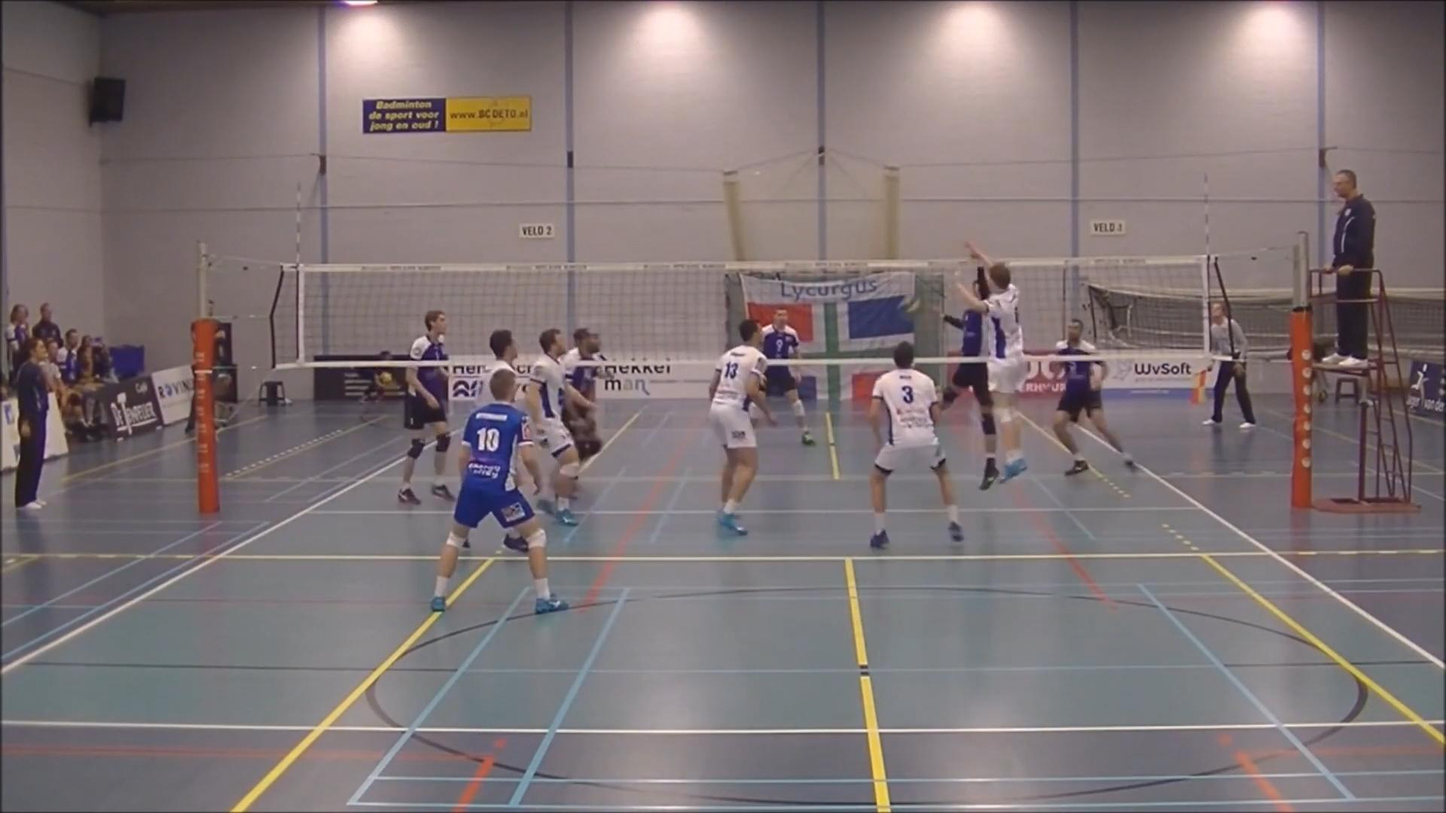attacco: (933, 230, 1033, 489)
